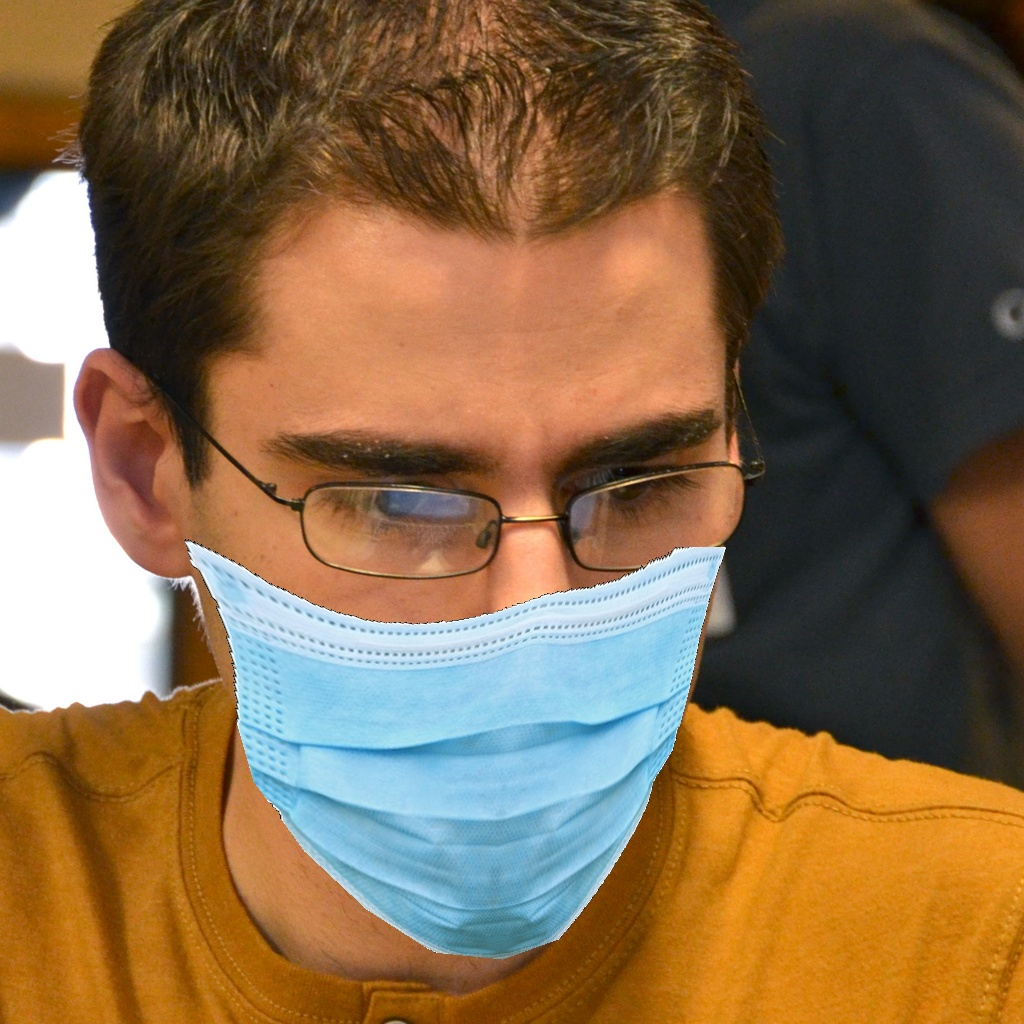Mask: (187, 331, 739, 961)
